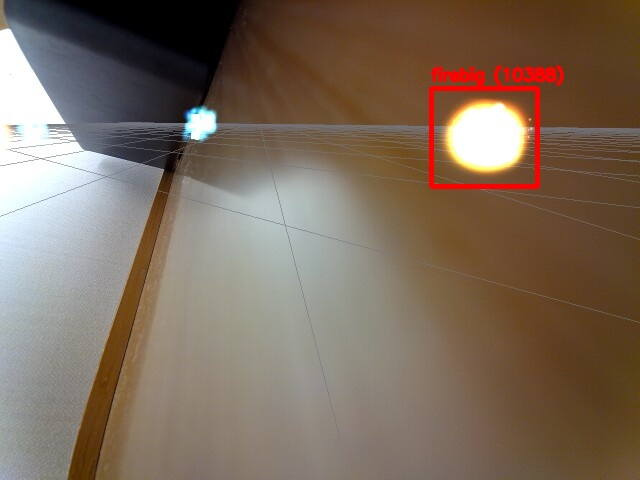firebig: (431, 88, 537, 186)
